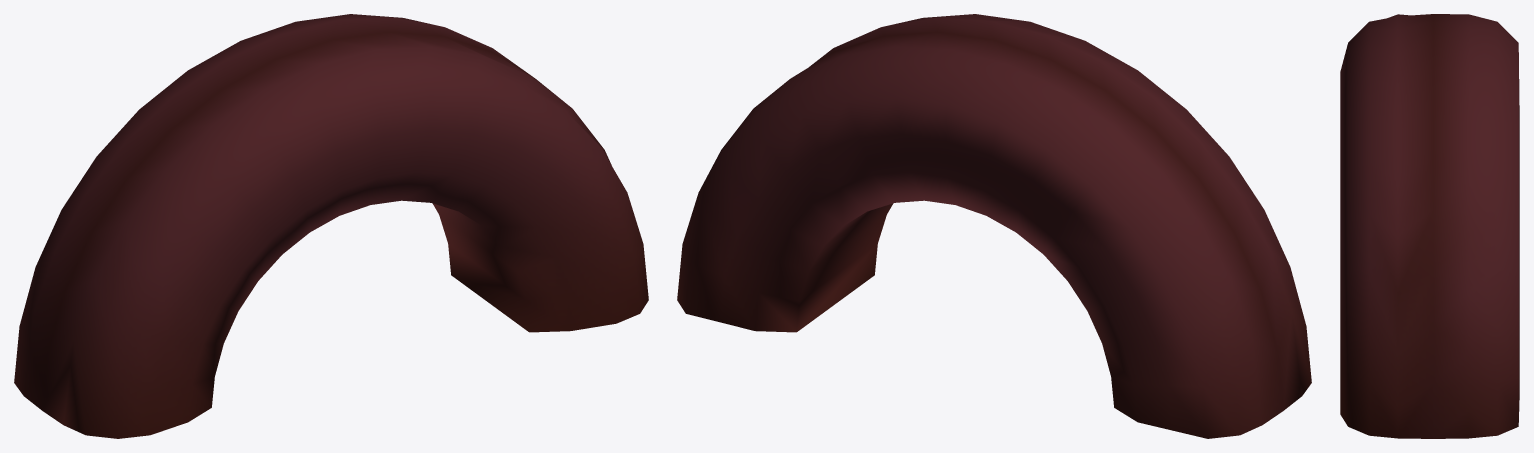
The model's file is The tire is red.fbx.
3 views of the same model, side by side, from view 1: azimuth 30°, elevation 25°; view 2: azimuth 150°, elevation 25°; view 3: azimuth 270°, elevation 25° (orthographic). The views are drawn at different scales.
Visible parts, largest first — view 1: The tire is red; view 2: The tire is red; view 3: The tire is red.
Boxes of the visible parts, x1,y1,x2,y2 form: The tire is red: (14,14,648,438); The tire is red: (677,14,1311,438); The tire is red: (1340,14,1519,438).
Bounding box in the file's own units: 254 × 127 × 76.1.
